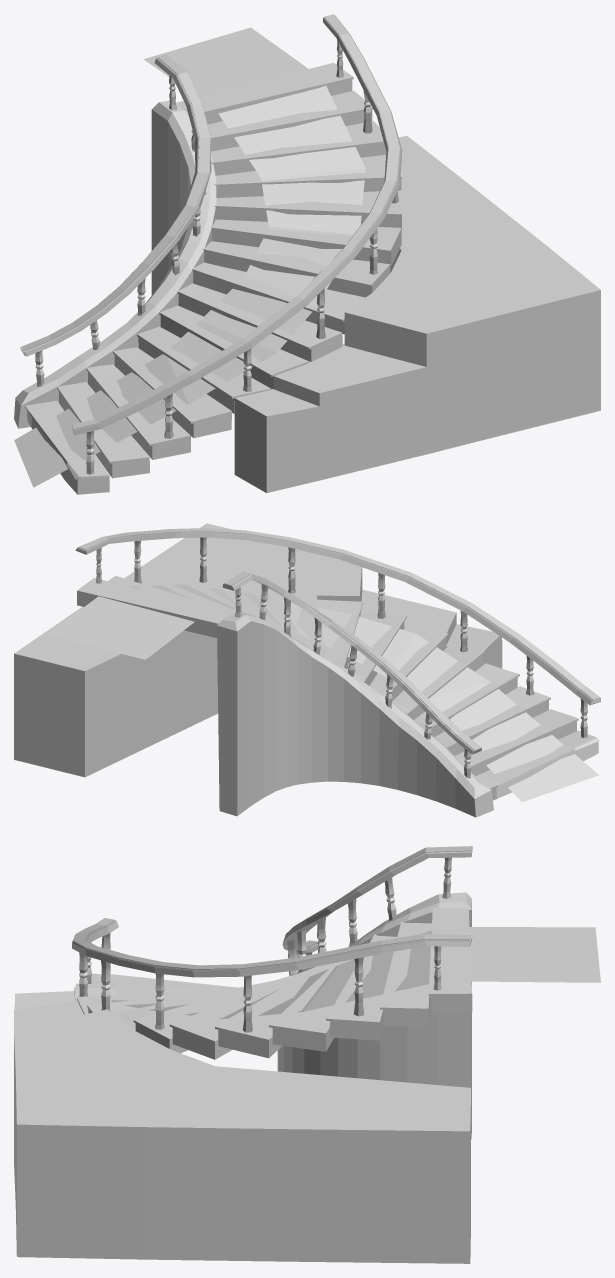
The model's file is Museum_Interior_Steps.fbx.
The picture shows the model from 3 angles, top to bottom: view 1: azimuth 30°, elevation 25°; view 2: azimuth 150°, elevation 25°; view 3: azimuth 270°, elevation 25°; orthographic projection. The views are drawn at different scales.
Visible parts, largest first — view 1: Cube.001, Cube, Plane, BezierCurve.001, BezierCurve; view 2: Cube, Cube.001, Plane, BezierCurve.001, BezierCurve; view 3: Cube.001, Cube, Plane, BezierCurve.001, BezierCurve.
Part boxes in pixels (x1=…): Cube.001: x1=234, y1=135, x2=600, y2=493; Cube: x1=14, y1=62, x2=401, y2=494; Plane: x1=14, y1=27, x2=365, y2=487; BezierCurve.001: x1=72, y1=14, x2=402, y2=435; BezierCurve: x1=20, y1=54, x2=211, y2=356; Cube: x1=77, y1=572, x2=599, y2=817; Cube.001: x1=14, y1=523, x2=502, y2=777; Plane: x1=47, y1=584, x2=598, y2=802; BezierCurve.001: x1=75, y1=528, x2=600, y2=705; BezierCurve: x1=222, y1=571, x2=481, y2=754; Cube.001: x1=14, y1=991, x2=470, y2=1263; Cube: x1=74, y1=892, x2=472, y2=1139; Plane: x1=111, y1=927, x2=600, y2=1019; BezierCurve.001: x1=72, y1=918, x2=472, y2=977; BezierCurve: x1=282, y1=846, x2=472, y2=952.
Size of the model in its own units: 534 by 258 by 476.
